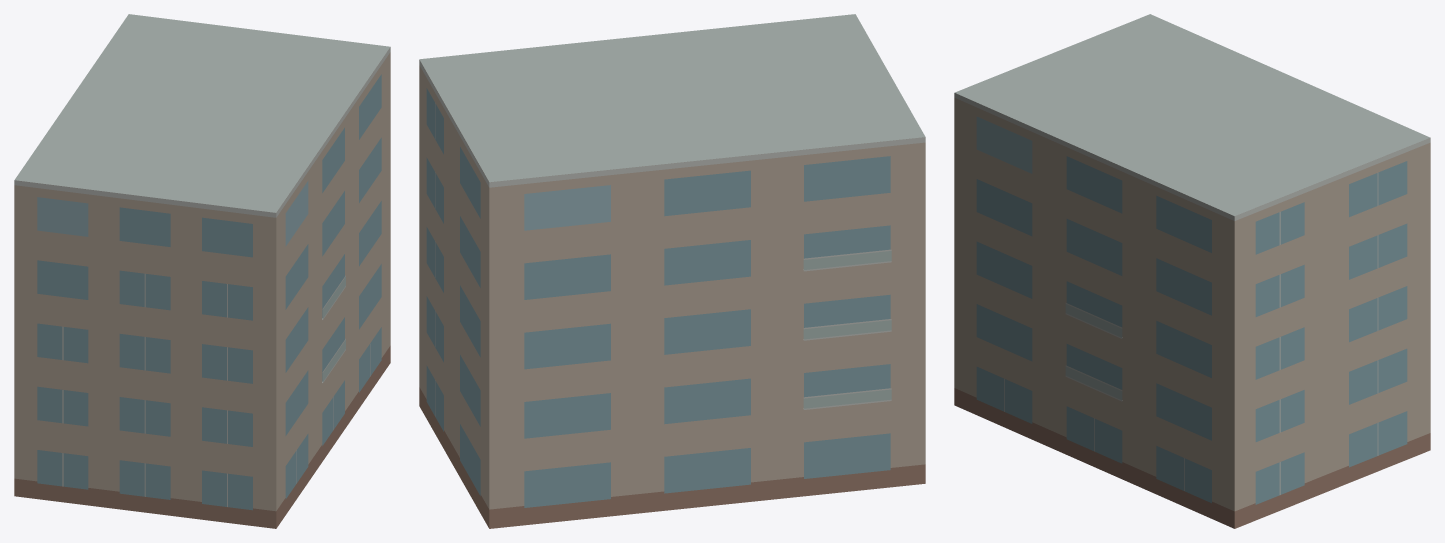
Rendered from survey-upis-32955444.glb.
3 views of the same model, side by side, from view 1: azimuth 30°, elevation 25°; view 2: azimuth 150°, elevation 25°; view 3: azimuth 270°, elevation 25° (orthographic). The views are drawn at different scales.
Parts seen in each view (by area): view 1: survey-upis-32955444.tmp; view 2: survey-upis-32955444.tmp; view 3: survey-upis-32955444.tmp.
Boxes of the visible parts, x1,y1,x2,y2 form: survey-upis-32955444.tmp: (14,14,390,528); survey-upis-32955444.tmp: (419,14,925,528); survey-upis-32955444.tmp: (954,14,1430,528).
Size of the model in its own units: 21.58 by 15.55 by 21.47.
